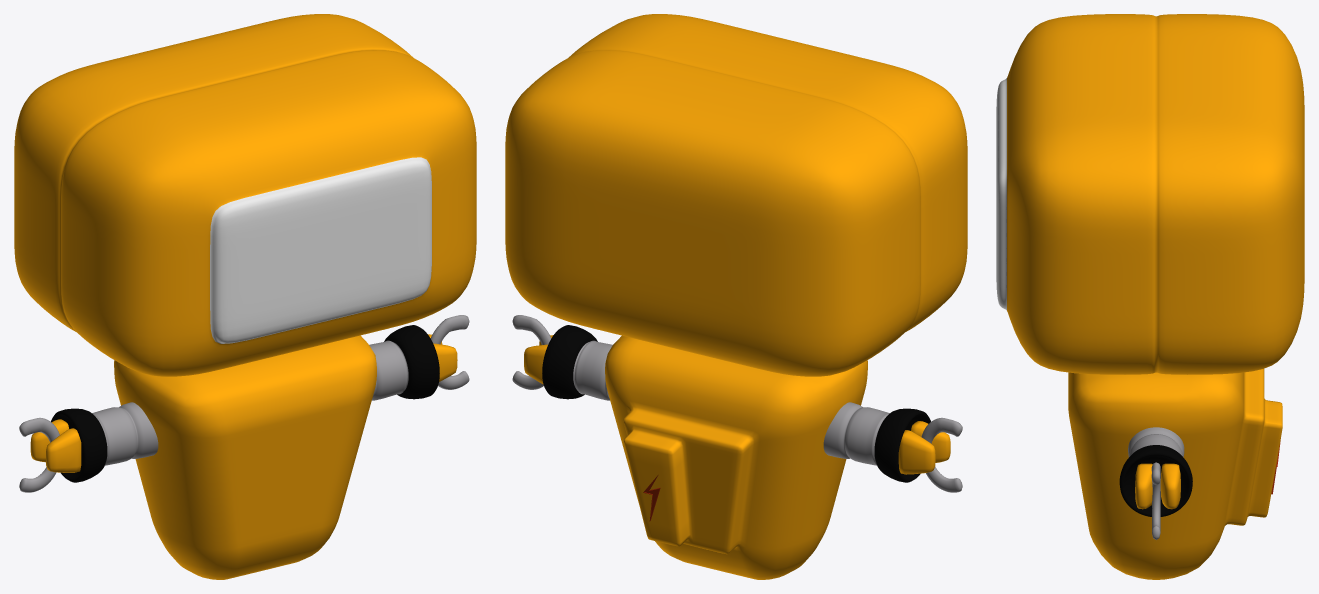
Rendered from robot.glb.
3 renders of one model, left to right at view 1: azimuth 30°, elevation 25°; view 2: azimuth 150°, elevation 25°; view 3: azimuth 270°, elevation 25°, orthographic.
Visible parts, largest first — view 1: Cube.001, Cube, Circle.001; view 2: Cube.001, Cube, Circle.001; view 3: Cube.001, Cube, Circle.001.
Boxes of the visible parts, <box> form: Cube.001: <box>14,14,476,376</box>; Cube: <box>114,335,376,579</box>; Circle.001: <box>19,315,469,492</box>; Cube.001: <box>505,14,967,376</box>; Cube: <box>605,335,867,579</box>; Circle.001: <box>512,315,962,492</box>; Cube.001: <box>996,14,1304,374</box>; Cube: <box>1068,369,1282,579</box>; Circle.001: <box>1119,427,1192,539</box>.
Size of the model in its own units: 2.26 by 2.37 by 1.36.
